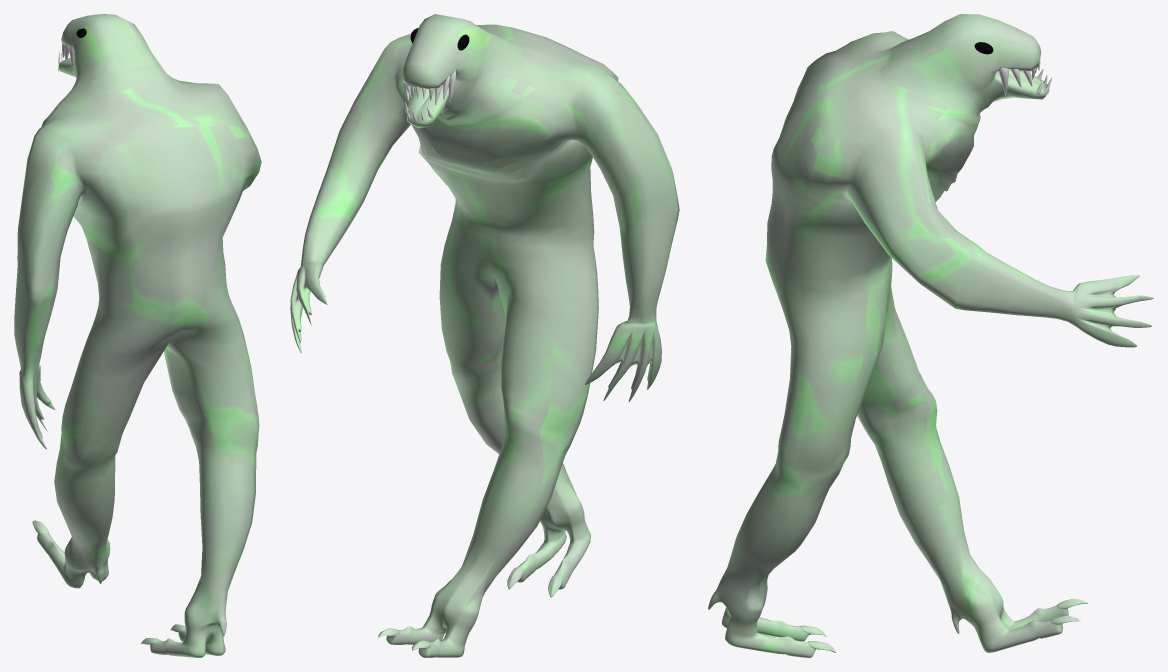
The model's file is Berserkerandar.0071.obj.
The picture shows the model from 3 angles, left to right: view 1: azimuth 30°, elevation 25°; view 2: azimuth 150°, elevation 25°; view 3: azimuth 270°, elevation 25°; orthographic projection. The views are drawn at different scales.
Parts seen in each view (by area): view 1: polySurface27; view 2: polySurface27; view 3: polySurface27.
Part boxes in pixels (left/top/right/bottom): polySurface27: left=14, top=14, right=261, bottom=657; polySurface27: left=290, top=14, right=679, bottom=657; polySurface27: left=708, top=14, right=1153, bottom=657.
Size of the model in its own units: 11.48 by 23.42 by 14.86.
1 material, 1 textured.
